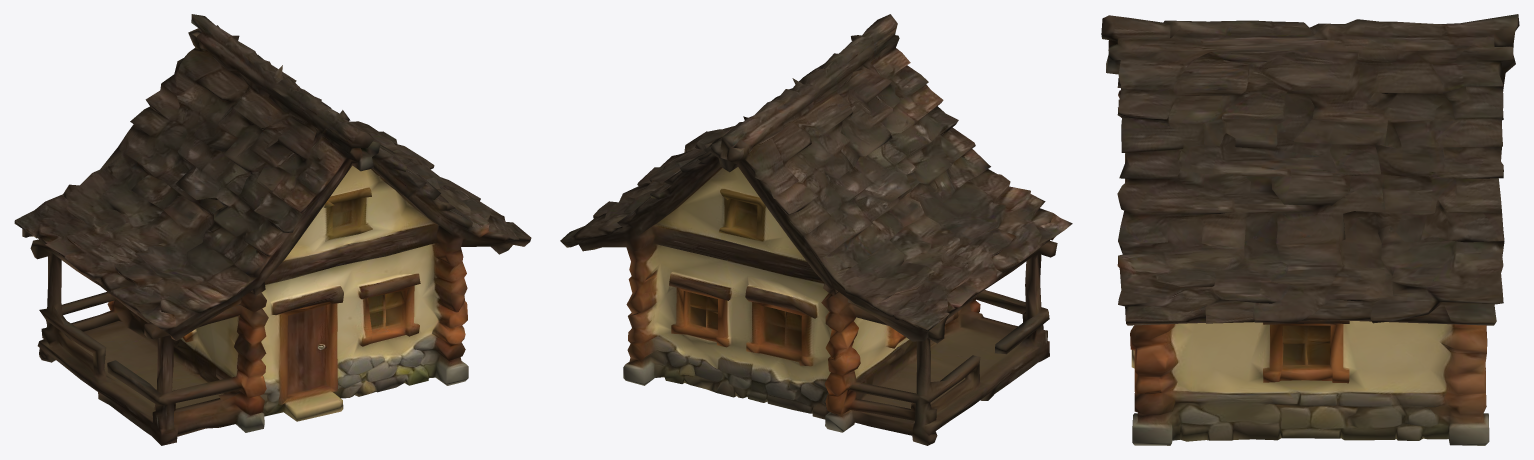
File: tripo_forester_cabin.glb
The picture shows the model from 3 angles, left to right: view 1: azimuth 30°, elevation 25°; view 2: azimuth 150°, elevation 25°; view 3: azimuth 270°, elevation 25°; orthographic projection. The views are drawn at different scales.
Parts seen in each view (by area): view 1: forester_cabin; view 2: forester_cabin; view 3: forester_cabin.
Part boxes in pixels (x1=…): forester_cabin: x1=14, y1=14, x2=531, y2=445; forester_cabin: x1=560, y1=14, x2=1072, y2=445; forester_cabin: x1=1101, y1=14, x2=1519, y2=445.
Size of the model in its own units: 9.58 by 7 by 7.39.
1 material, 1 textured.
